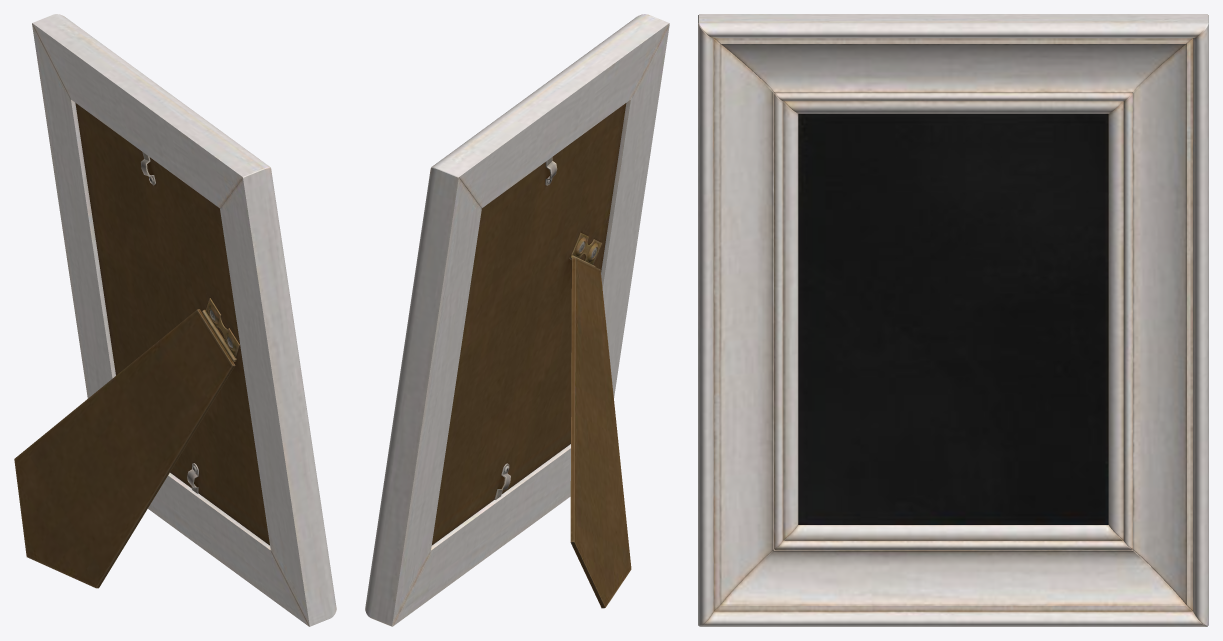
File: polyhaven-standing-picture-frame-02.glb
3 renders of one model, left to right at view 1: azimuth 30°, elevation 25°; view 2: azimuth 150°, elevation 25°; view 3: azimuth 270°, elevation 25°, orthographic. The views are drawn at different scales.
Parts seen in each view (by area): view 1: standing_picture_frame_02; view 2: standing_picture_frame_02; view 3: standing_picture_frame_02.
Part boxes in pixels (left/top/right/bottom): standing_picture_frame_02: left=14, top=14, right=336, bottom=626; standing_picture_frame_02: left=365, top=14, right=669, bottom=626; standing_picture_frame_02: left=698, top=14, right=1208, bottom=626.
Bounding box in the file's own units: 0.1023 × 0.2664 × 0.2169.
Materials: 3 (3 with a texture image).
